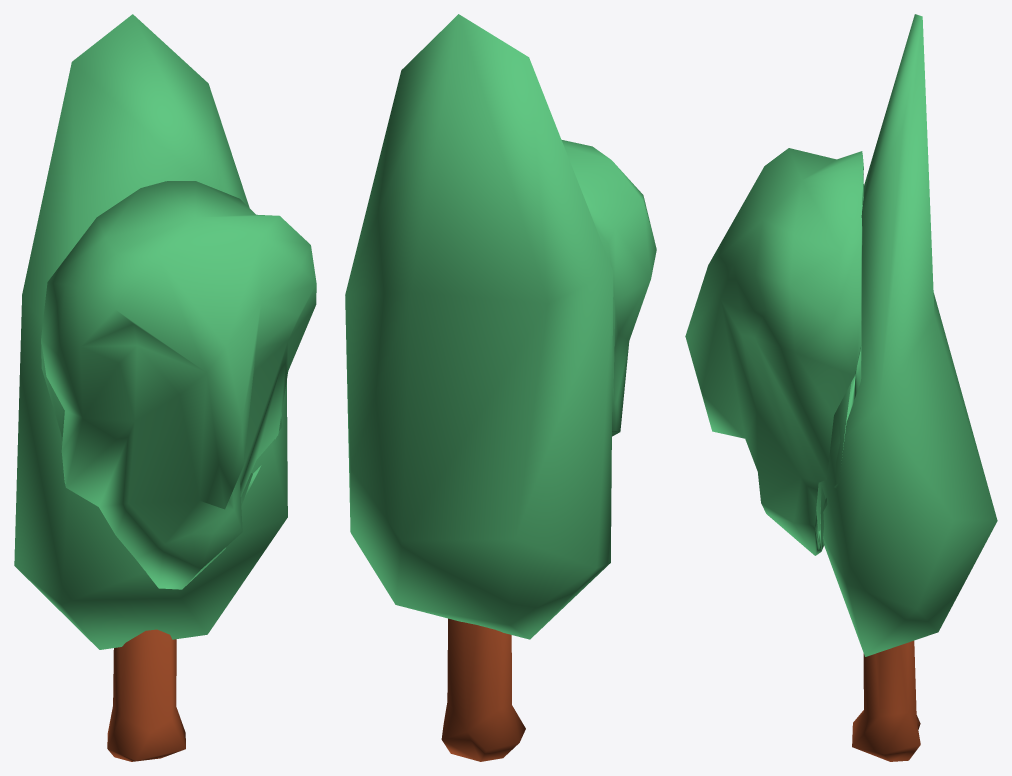
File: arbre-face2.glb
The picture shows the model from 3 angles, left to right: view 1: azimuth 30°, elevation 25°; view 2: azimuth 150°, elevation 25°; view 3: azimuth 270°, elevation 25°; orthographic projection. The views are drawn at different scales.
Visible parts, largest first — view 1: Cylinder; view 2: Cylinder; view 3: Cylinder.
Part boxes in pixels (<box>): Cylinder: <box>14,14,316,761</box>; Cylinder: <box>345,14,656,761</box>; Cylinder: <box>685,14,997,761</box>.
Size of the model in its own units: 0.8316 by 2.2 by 0.8456.
